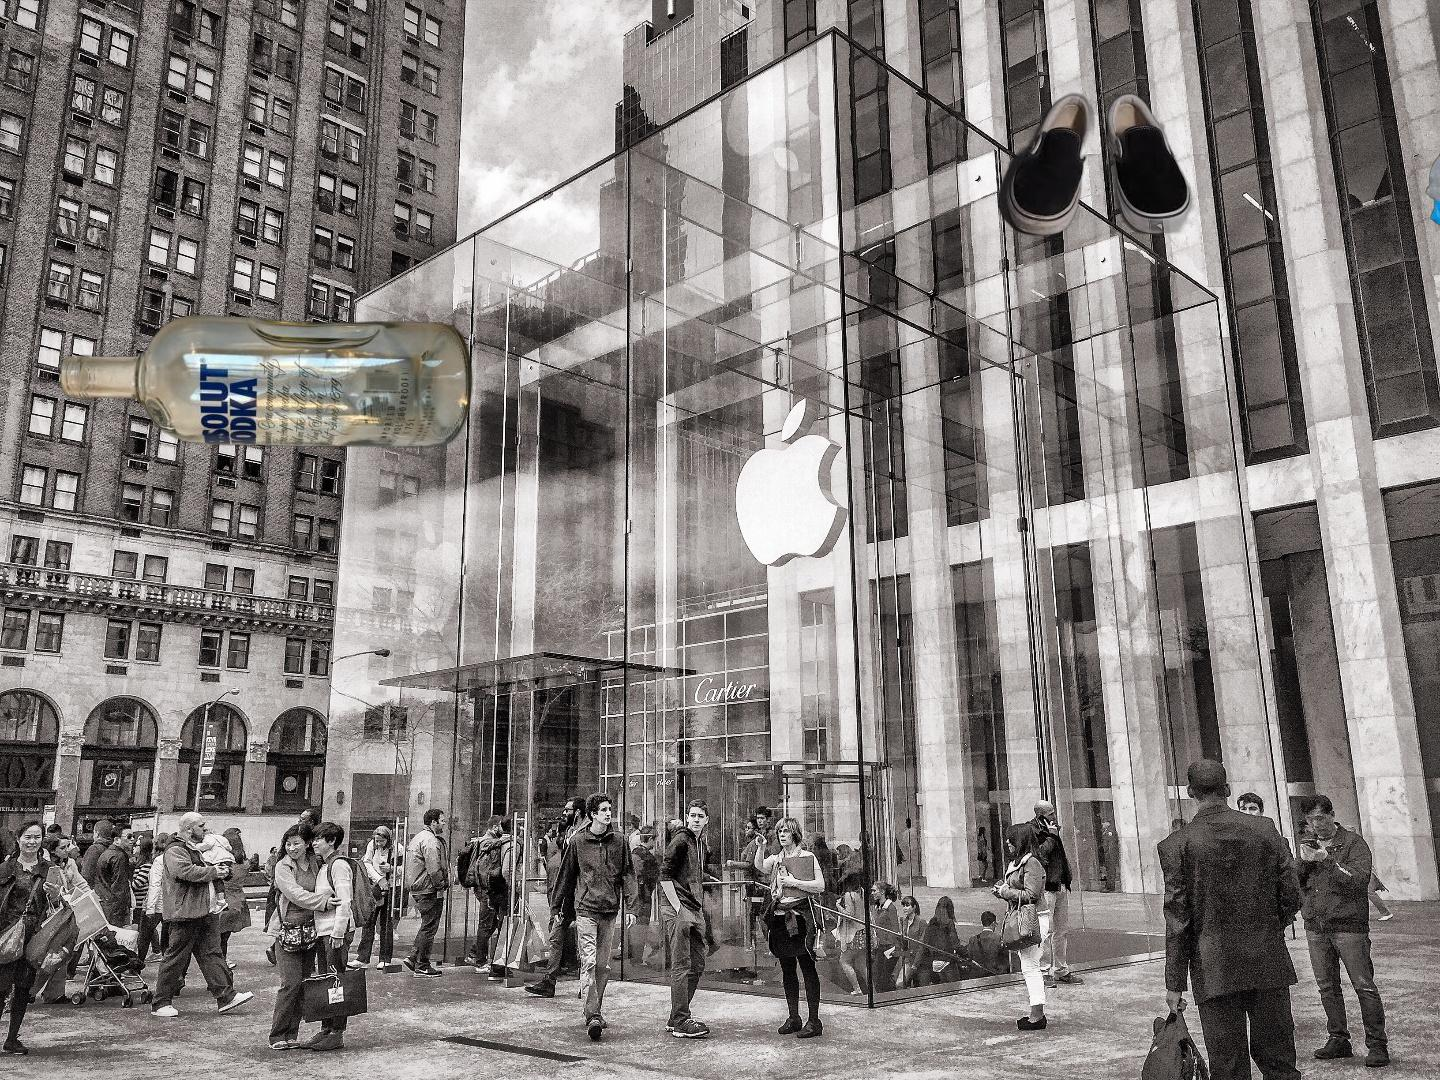glass: (56, 313, 477, 450)
plastic-bag: (1423, 73, 1440, 286)
shoes: (996, 87, 1197, 239)
